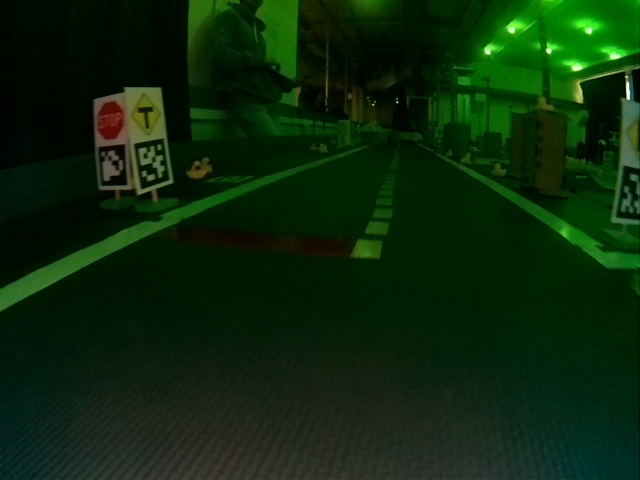Duckie: (186, 161, 206, 179), (491, 164, 506, 176), (203, 158, 212, 173), (461, 157, 470, 164)
Intersection sign: (133, 91, 165, 136)
QR code: (133, 140, 172, 187), (611, 166, 639, 224), (96, 147, 128, 187), (209, 175, 251, 184)
Stop sign: (94, 101, 124, 141)
